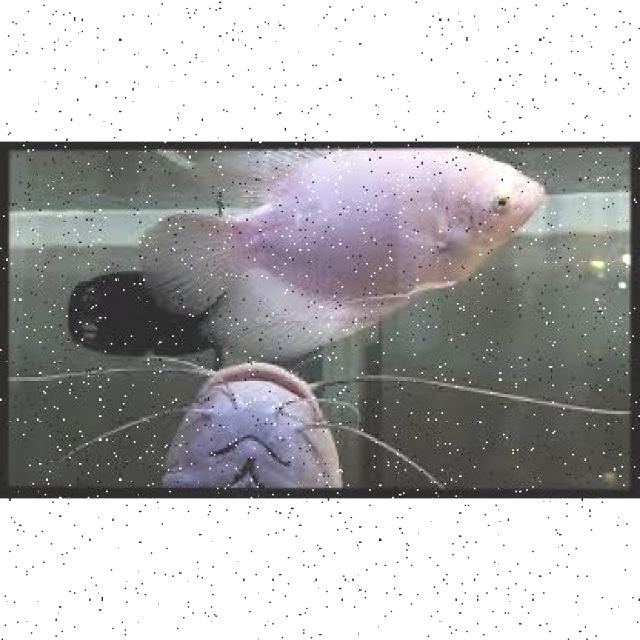gurame: (141, 142, 548, 356)
